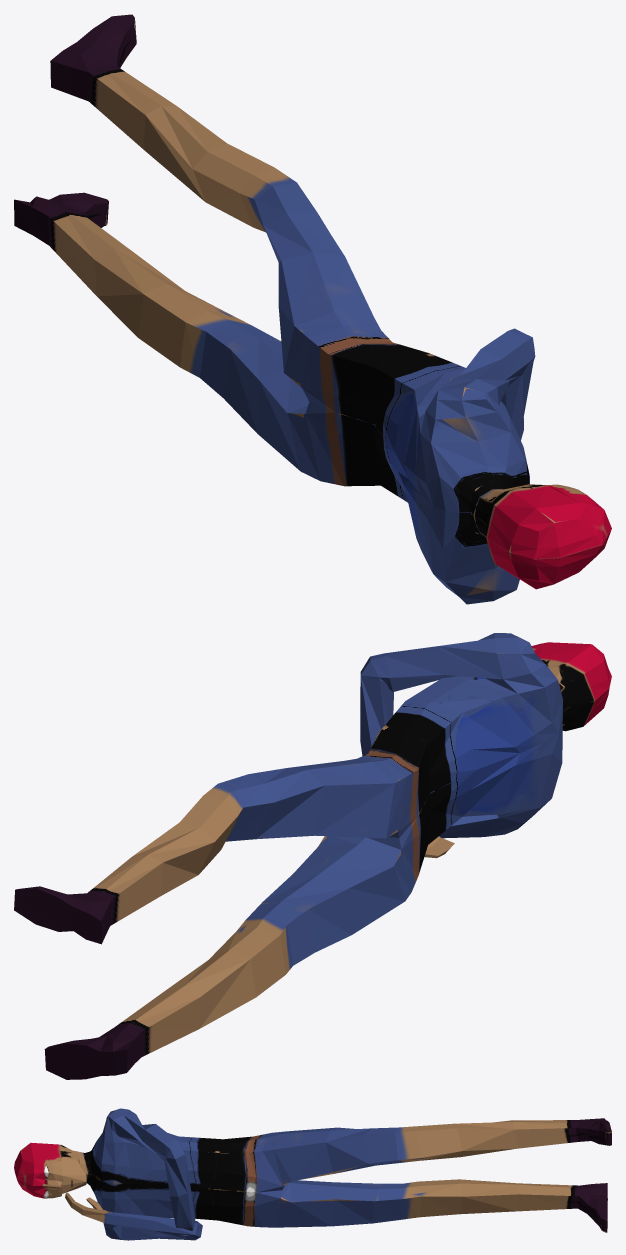
File: mirrorman_000018.obj
3 renders of one model, top to bottom at view 1: azimuth 30°, elevation 25°; view 2: azimuth 150°, elevation 25°; view 3: azimuth 270°, elevation 25°, orthographic. The views are drawn at different scales.
Parts seen in each view (by area): view 1: mirrorman_Cube.001_Material.001; view 2: mirrorman_Cube.001_Material.001; view 3: mirrorman_Cube.001_Material.001.
Part boxes in pixels (bbox=[...]): mirrorman_Cube.001_Material.001: bbox=[14, 14, 611, 604]; mirrorman_Cube.001_Material.001: bbox=[14, 633, 611, 1079]; mirrorman_Cube.001_Material.001: bbox=[14, 1108, 611, 1240].
Size of the model in its own units: 0.3296 by 0.467 by 1.9.
1 material, 1 textured.
